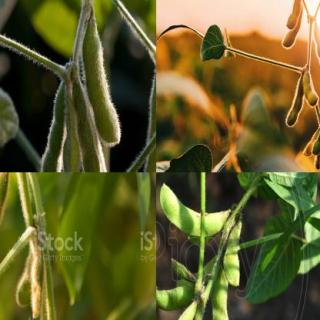soya: (82, 20, 121, 144), (159, 182, 225, 236), (72, 83, 102, 172), (40, 84, 67, 171), (142, 76, 156, 172), (223, 222, 242, 288), (156, 278, 195, 310), (63, 104, 81, 171), (212, 276, 236, 319), (285, 75, 303, 128), (30, 254, 43, 318), (156, 301, 197, 319), (0, 172, 10, 235), (303, 71, 319, 107), (285, 0, 301, 28), (280, 30, 301, 50), (313, 22, 319, 70), (312, 128, 319, 156), (302, 140, 312, 157), (315, 157, 320, 171)
